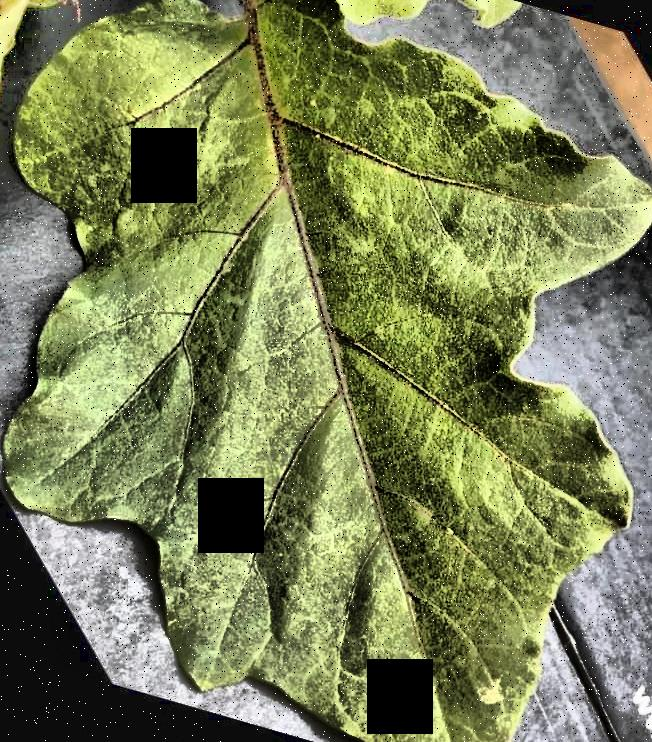HEALTHY: (1, 0, 652, 742)
